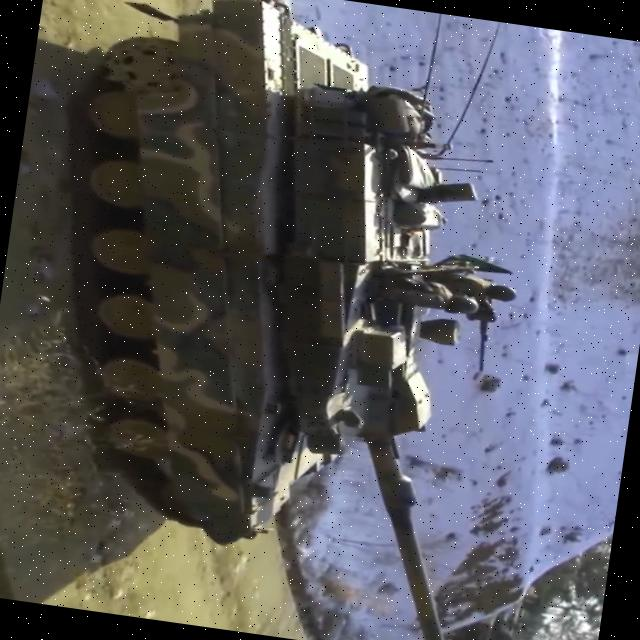korea tank: (3, 0, 554, 640)
